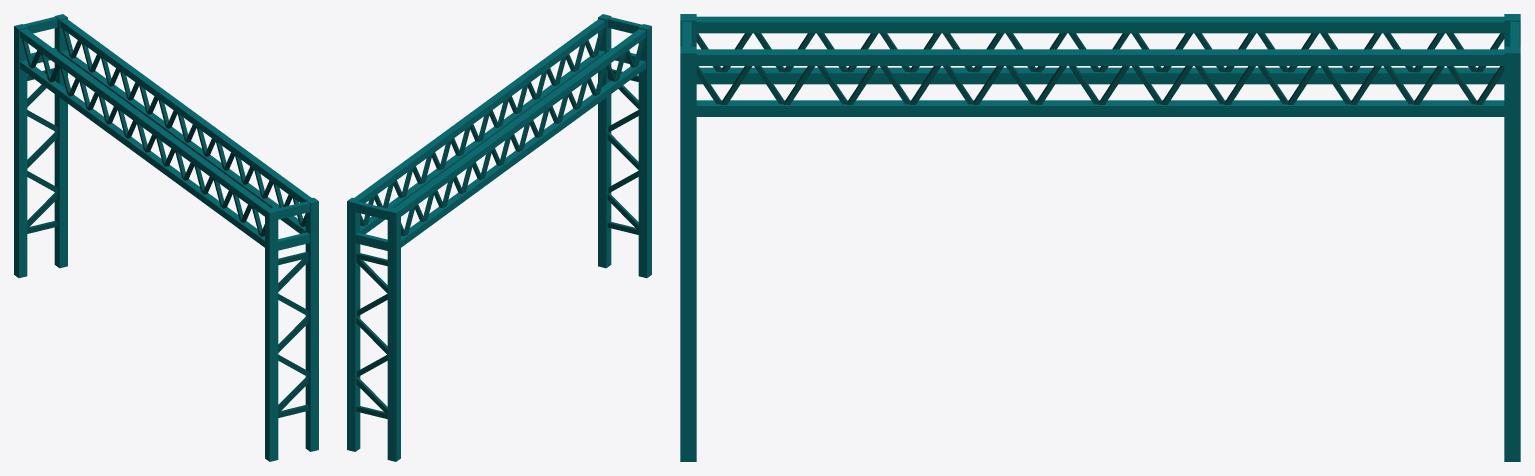
File: SignHolder_4_B.fbx
3 views of the same model, side by side, from view 1: azimuth 30°, elevation 25°; view 2: azimuth 150°, elevation 25°; view 3: azimuth 270°, elevation 25° (orthographic). The views are drawn at different scales.
Visible parts, largest first — view 1: SignHolder_4_B; view 2: SignHolder_4_B; view 3: SignHolder_4_B.
Part boxes in pixels (x1,y1,x2,y2): SignHolder_4_B: (14,14,318,461); SignHolder_4_B: (347,14,651,461); SignHolder_4_B: (680,14,1520,461).
Size of the model in its own units: 98.7 by 477 by 889.
